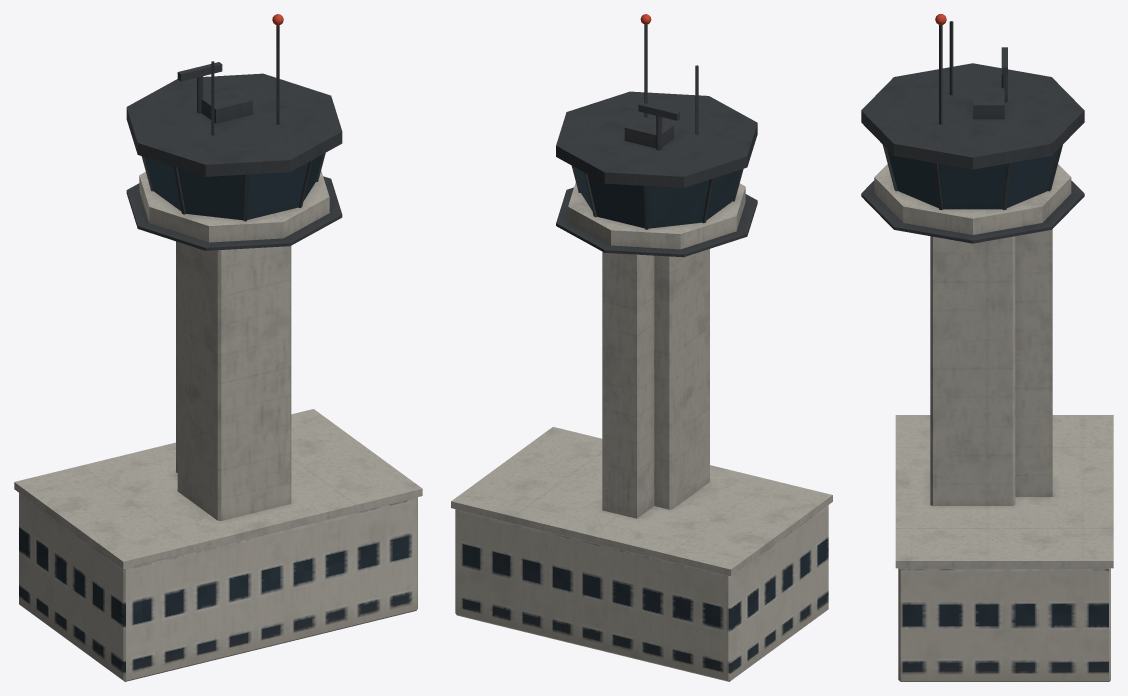
File: control-tower.fbx
The picture shows the model from 3 angles, left to right: view 1: azimuth 30°, elevation 25°; view 2: azimuth 150°, elevation 25°; view 3: azimuth 270°, elevation 25°; orthographic projection. The views are drawn at different scales.
Visible parts, largest first — view 1: control-tower; view 2: control-tower; view 3: control-tower.
Part boxes in pixels (<box>): control-tower: <box>14,14,422,681</box>; control-tower: <box>451,14,832,681</box>; control-tower: <box>861,14,1113,681</box>.
Size of the model in its own units: 1820 by 3545 by 1330.
Materials: 1 (1 with a texture image).
